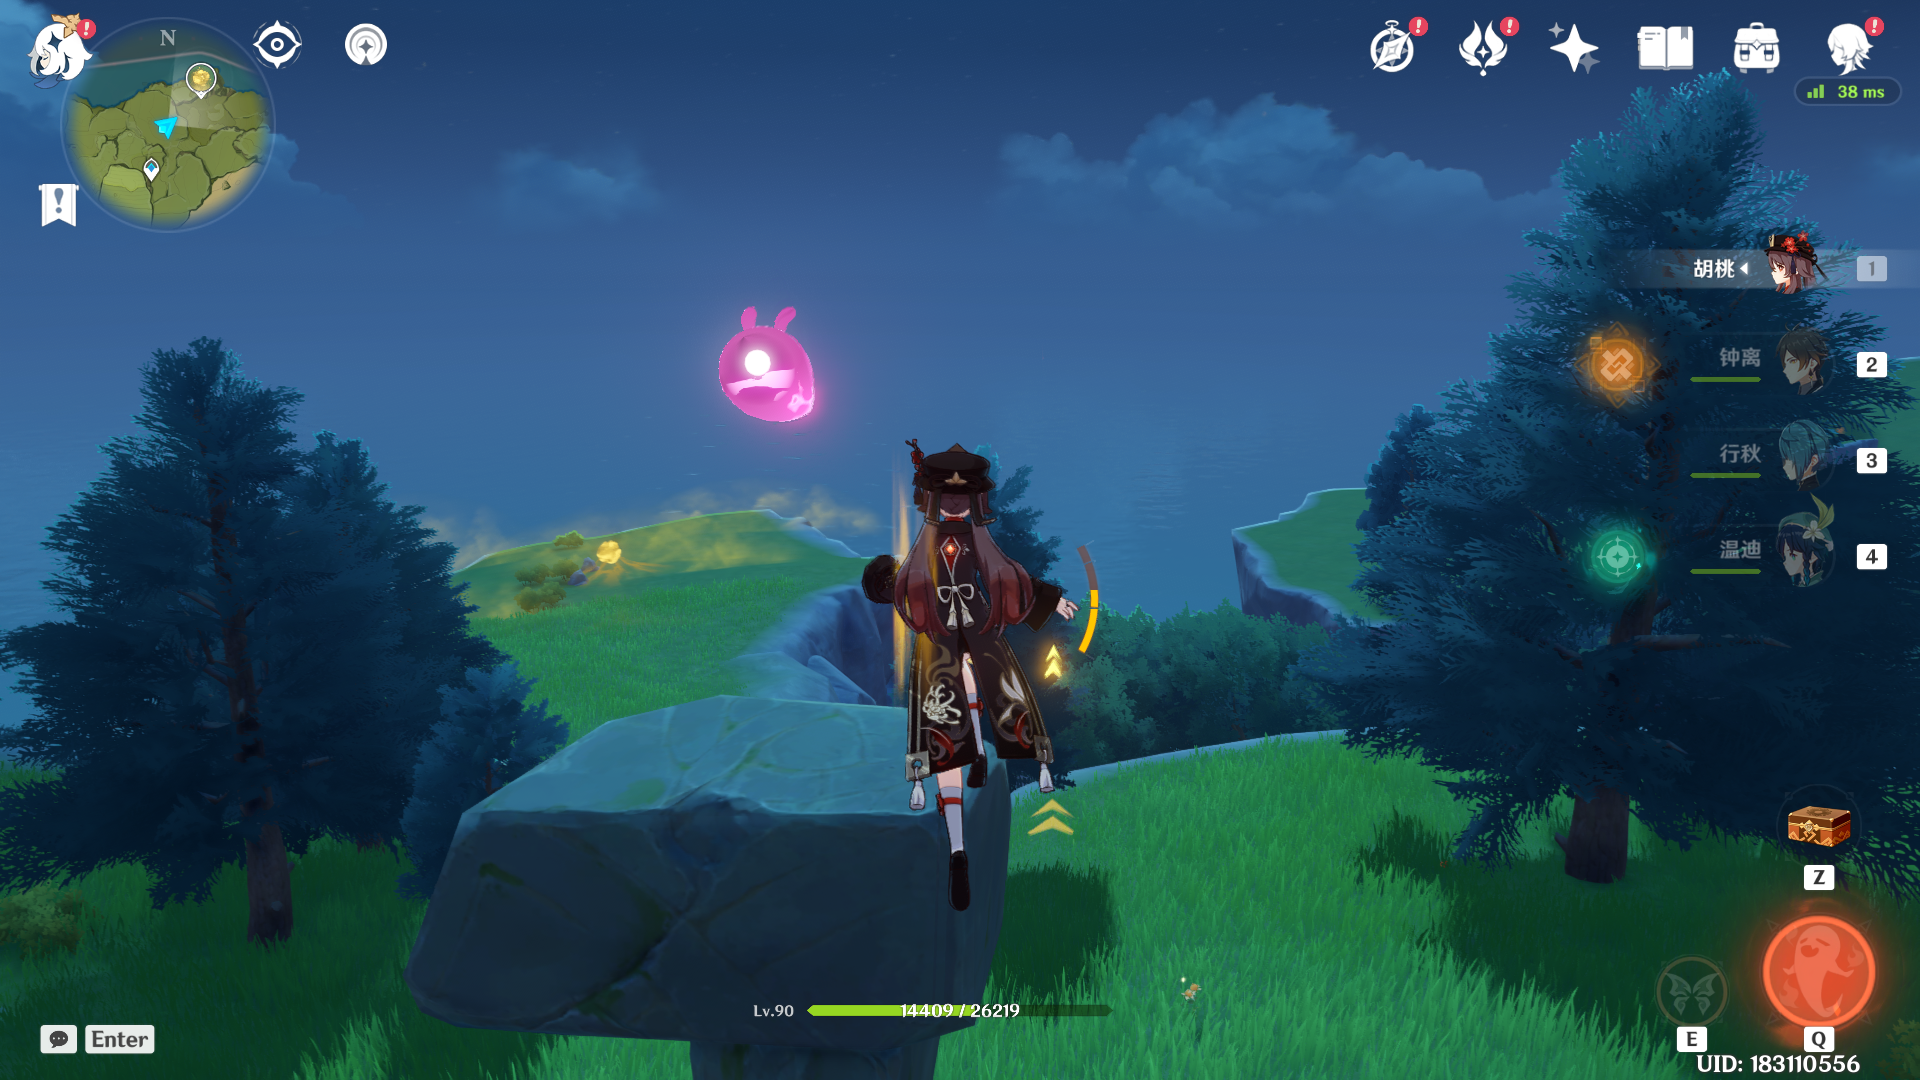character: (787, 402, 1127, 916)
